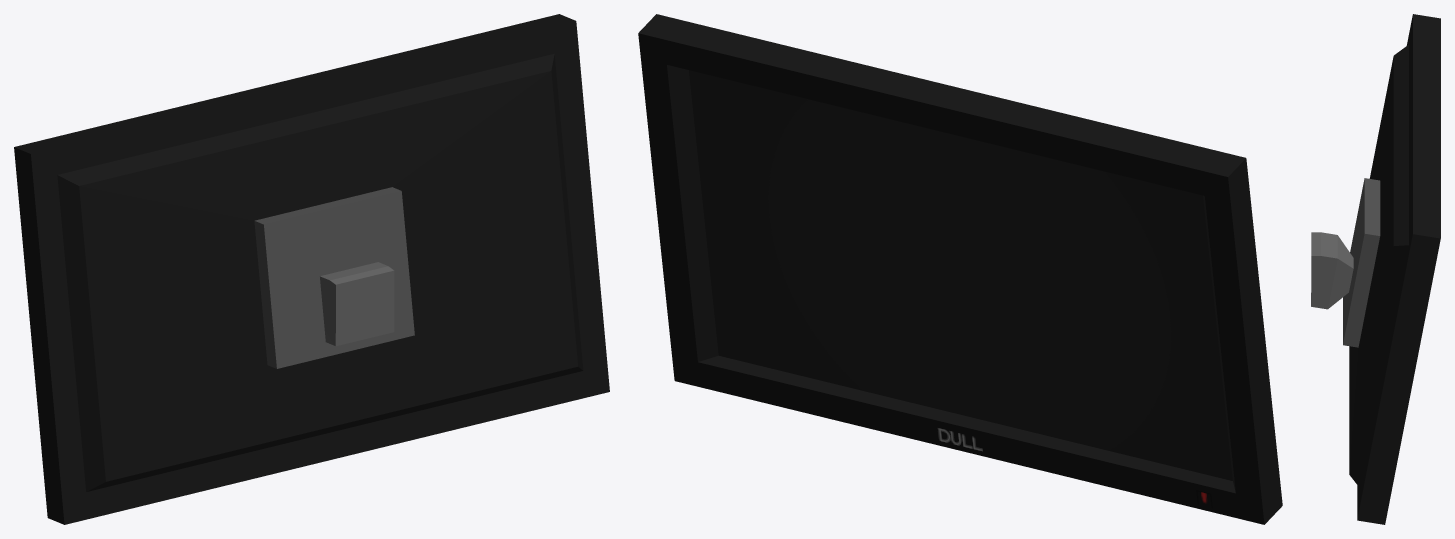
File: monitor.fbx
3 views of the same model, side by side, from view 1: azimuth 30°, elevation 25°; view 2: azimuth 150°, elevation 25°; view 3: azimuth 270°, elevation 25° (orthographic). The views are drawn at different scales.
Parts seen in each view (by area): view 1: monitor; view 2: monitor; view 3: monitor.
Part boxes in pixels (box(x1,y1,x2,y2)): monitor: box(14, 14, 609, 524); monitor: box(638, 14, 1282, 524); monitor: box(1311, 14, 1440, 524).
Size of the model in its own units: 52.65 by 32.44 by 13.11.
